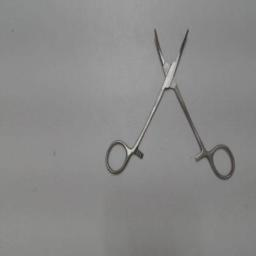Crile Artery Forceps: (102, 24, 238, 182)
